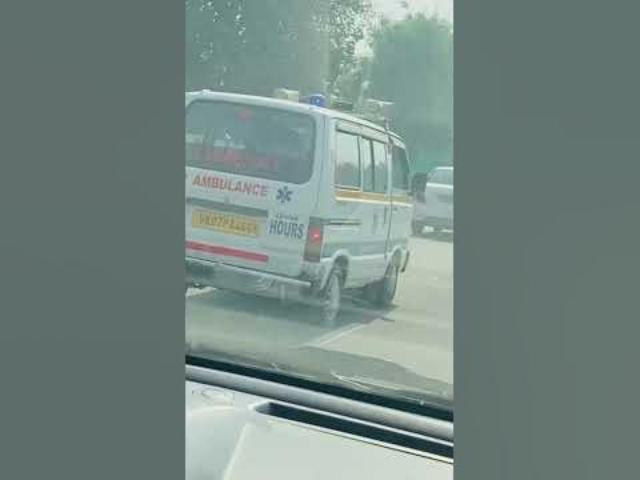ambulance: (188, 84, 424, 332)
